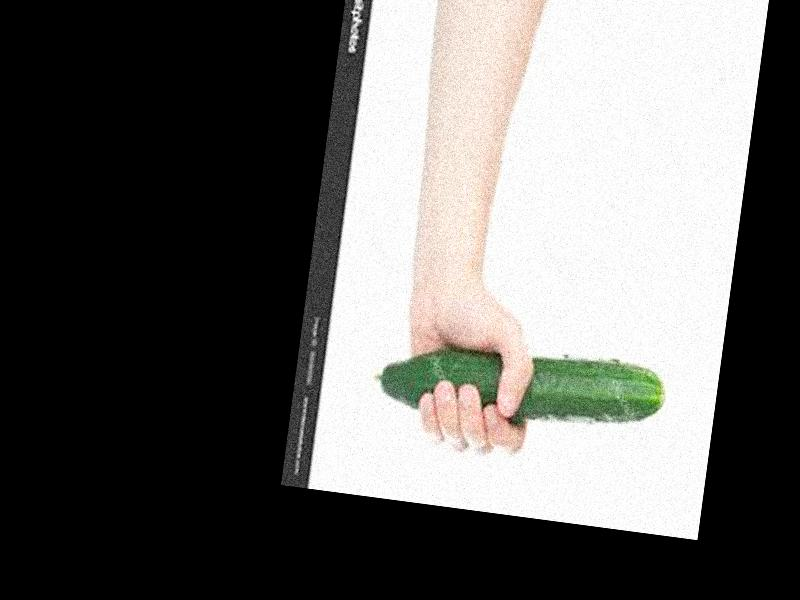Cucumber: (372, 330, 667, 441)
